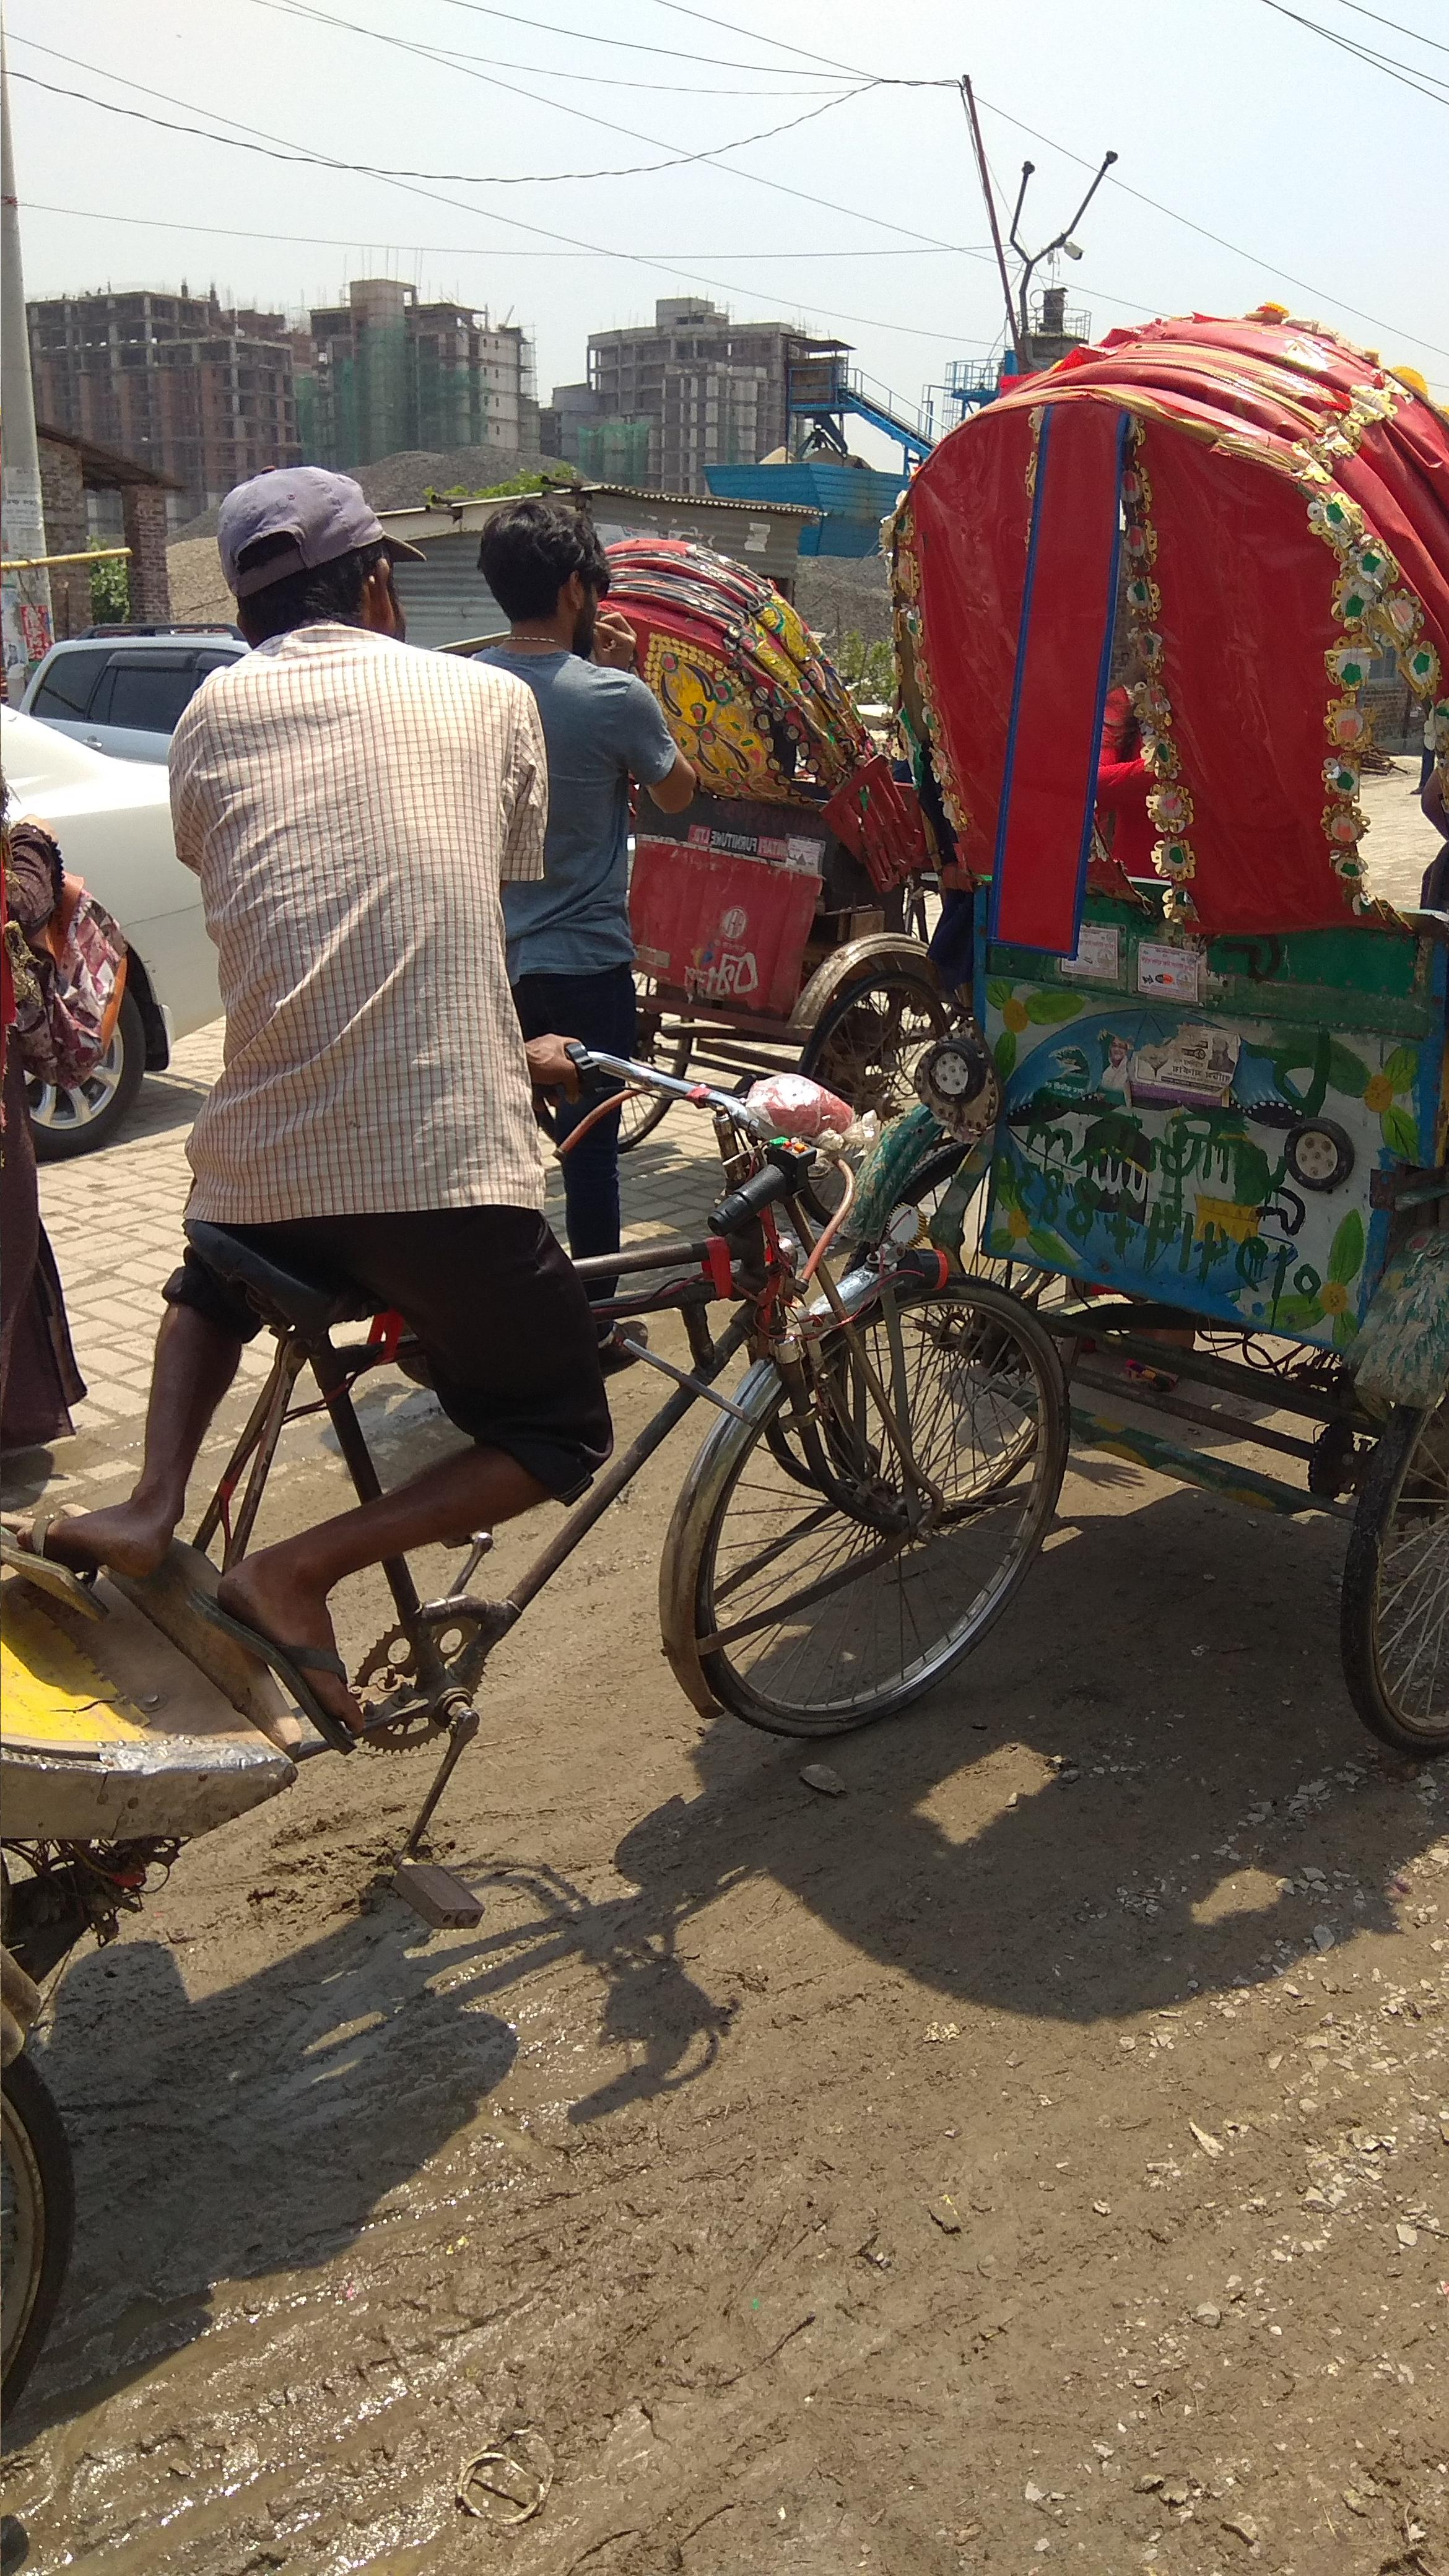Rickshaw: (23, 1127, 1042, 2189), (724, 228, 1424, 1734), (587, 517, 945, 1177)
